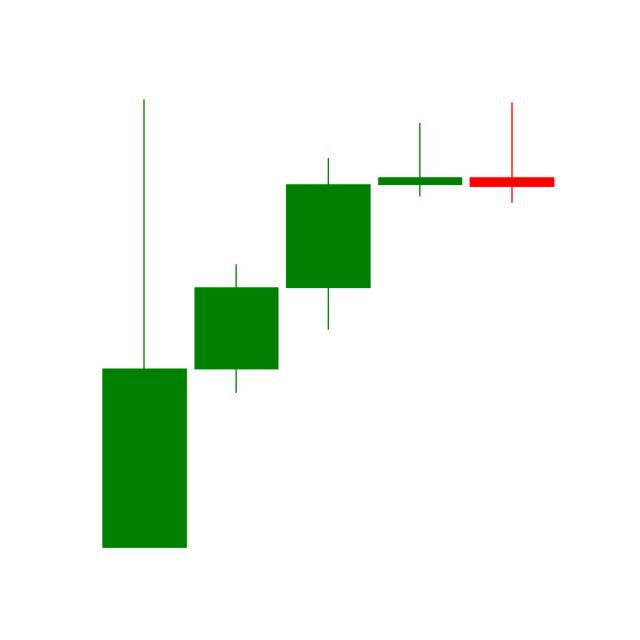Spinning Top: (373, 121, 467, 197)
